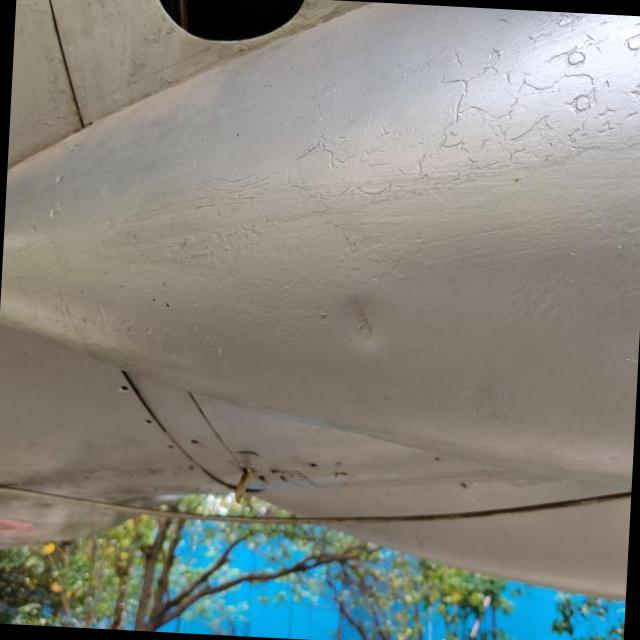Dent: (313, 278, 409, 366)
